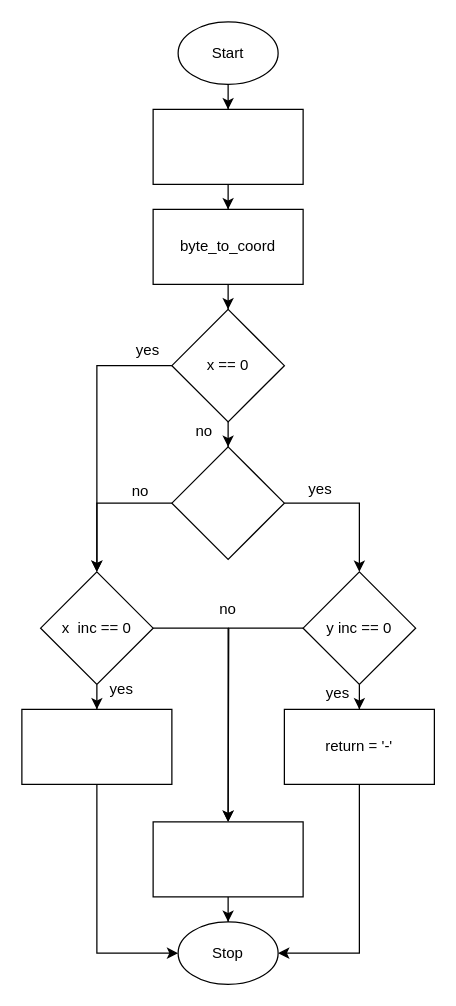
Some shapes in this 456 by 1006 pixel diagram are drawn without their labels. The centre of each missing label's shape, as x and y in pixels:
return = '+': pixel 227 859
return = '|': pixel 96 746
sub input coords: pixel 227 146
y == 0: pixel 227 502
